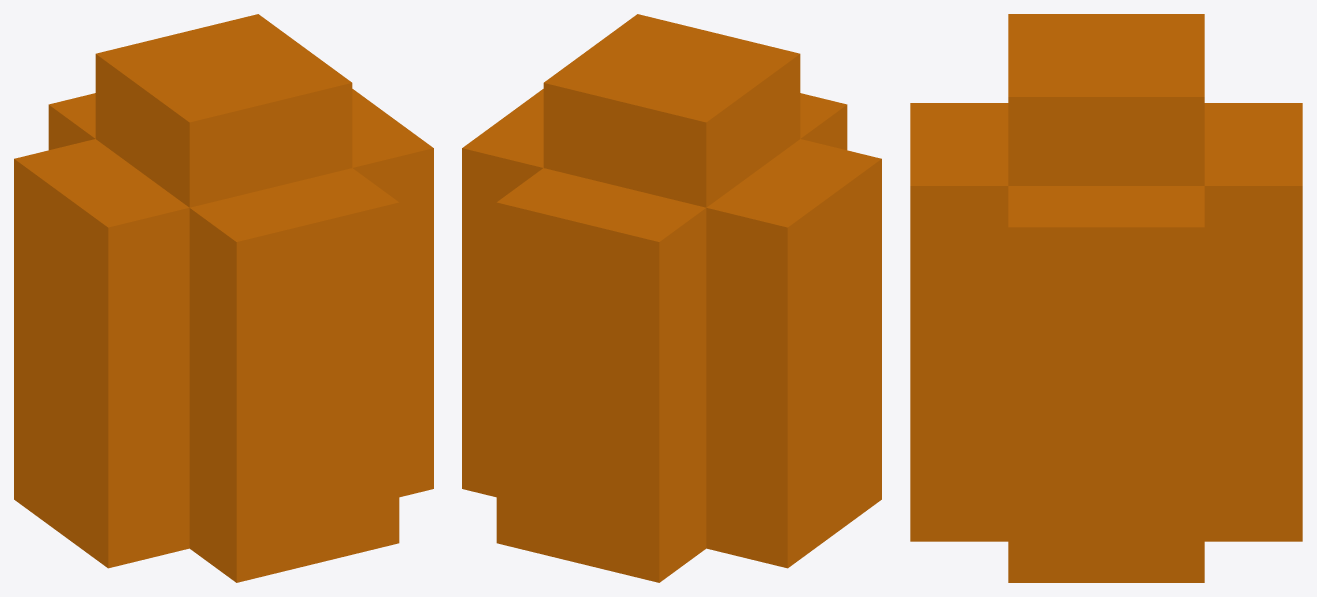
The model's file is torch_head.gltf.
The picture shows the model from 3 angles, left to right: view 1: azimuth 30°, elevation 25°; view 2: azimuth 150°, elevation 25°; view 3: azimuth 270°, elevation 25°; orthographic projection. The views are drawn at different scales.
Parts seen in each view (by area): view 1: torch_head; view 2: torch_head; view 3: torch_head.
Part boxes in pixels (box(x1,y1,x2,y2)): torch_head: box(14, 14, 433, 582); torch_head: box(462, 14, 881, 582); torch_head: box(910, 14, 1302, 582).
Bounding box in the file's own units: 0.4 × 0.5 × 0.4.
Materials: 1 (1 with a texture image).
